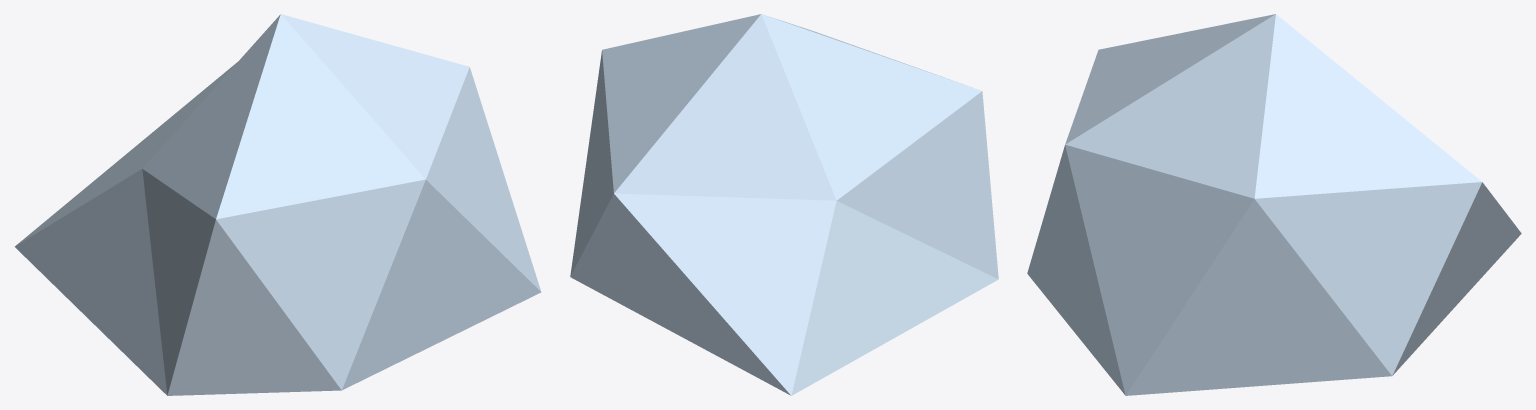
File: Rock_2.fbx
3 views of the same model, side by side, from view 1: azimuth 30°, elevation 25°; view 2: azimuth 150°, elevation 25°; view 3: azimuth 270°, elevation 25° (orthographic). The views are drawn at different scales.
Parts seen in each view (by area): view 1: Icosphere.001; view 2: Icosphere.001; view 3: Icosphere.001.
Part boxes in pixels (x1,y1,x2,y2): Icosphere.001: [14, 14, 541, 395]; Icosphere.001: [570, 14, 998, 395]; Icosphere.001: [1027, 14, 1521, 395].
Size of the model in its own units: 161 by 119 by 177.
